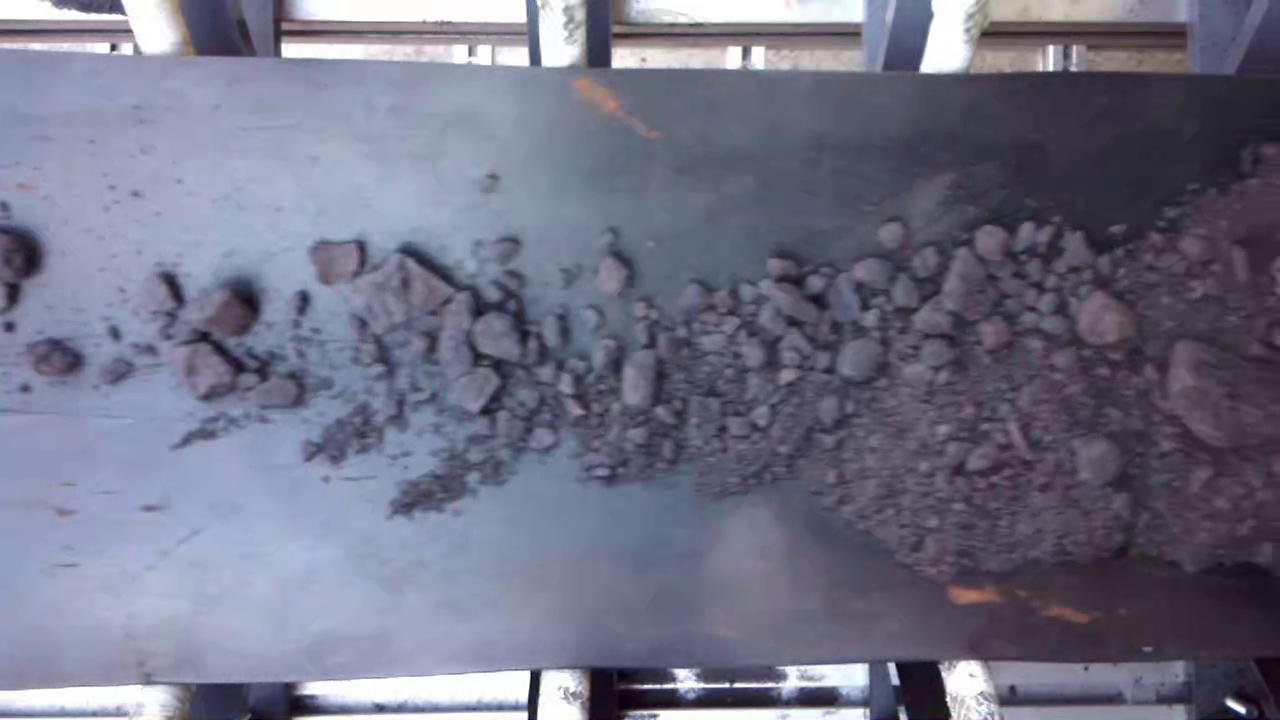conveyor: (6, 77, 1280, 659)
